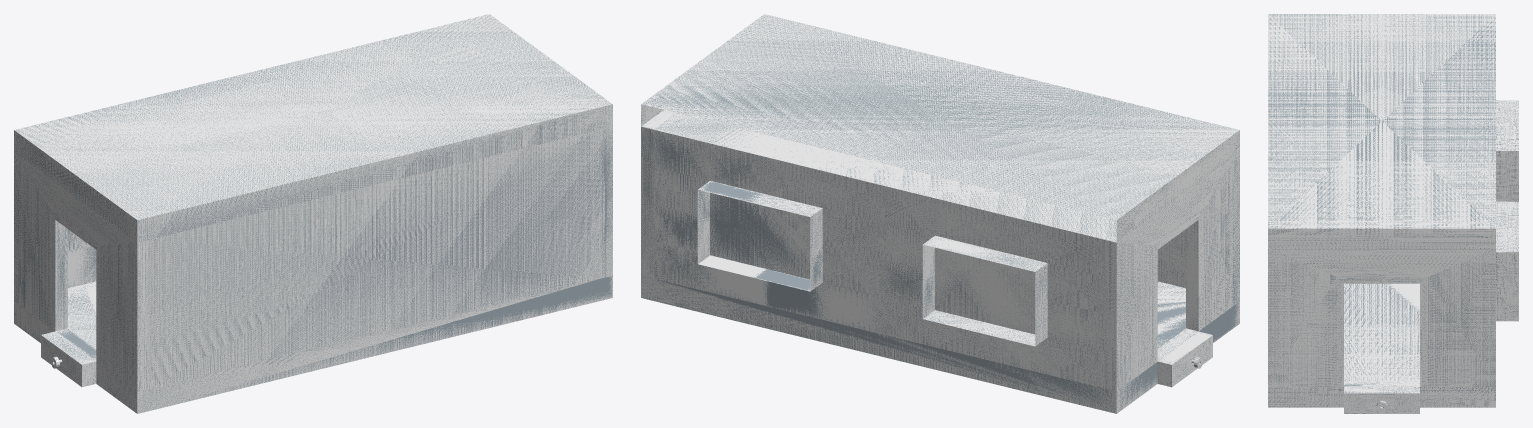
File: train2.fbx
3 renders of one model, left to right at view 1: azimuth 30°, elevation 25°; view 2: azimuth 150°, elevation 25°; view 3: azimuth 270°, elevation 25°, orthographic. The views are drawn at different scales.
Parts seen in each view (by area): view 1: Group1, FrontWall, Group4, Group5, Group2; view 2: Group1, Group4, Window1, Window1_1, Group5, Group2, FrontWall; view 3: Group1, Group5, Group3.
Boxes of the visible parts, bbox=[...] form: Group1: bbox=[14, 14, 612, 413]; FrontWall: bbox=[150, 130, 599, 388]; Group4: bbox=[14, 152, 150, 413]; Group5: bbox=[600, 126, 612, 278]; Group2: bbox=[41, 331, 96, 387]; Group1: bbox=[641, 14, 1239, 413]; Group4: bbox=[1103, 152, 1239, 413]; Window1: bbox=[710, 193, 810, 279]; Window1_1: bbox=[935, 247, 1035, 334]; Group5: bbox=[641, 110, 676, 278]; Group2: bbox=[1157, 331, 1212, 387]; FrontWall: bbox=[1157, 229, 1185, 287]; Group1: bbox=[1268, 14, 1518, 380]; Group5: bbox=[1268, 249, 1495, 407]; Group3: bbox=[1344, 387, 1419, 413].
Size of the model in its own units: 7.3 by 2.6 by 3.3.
